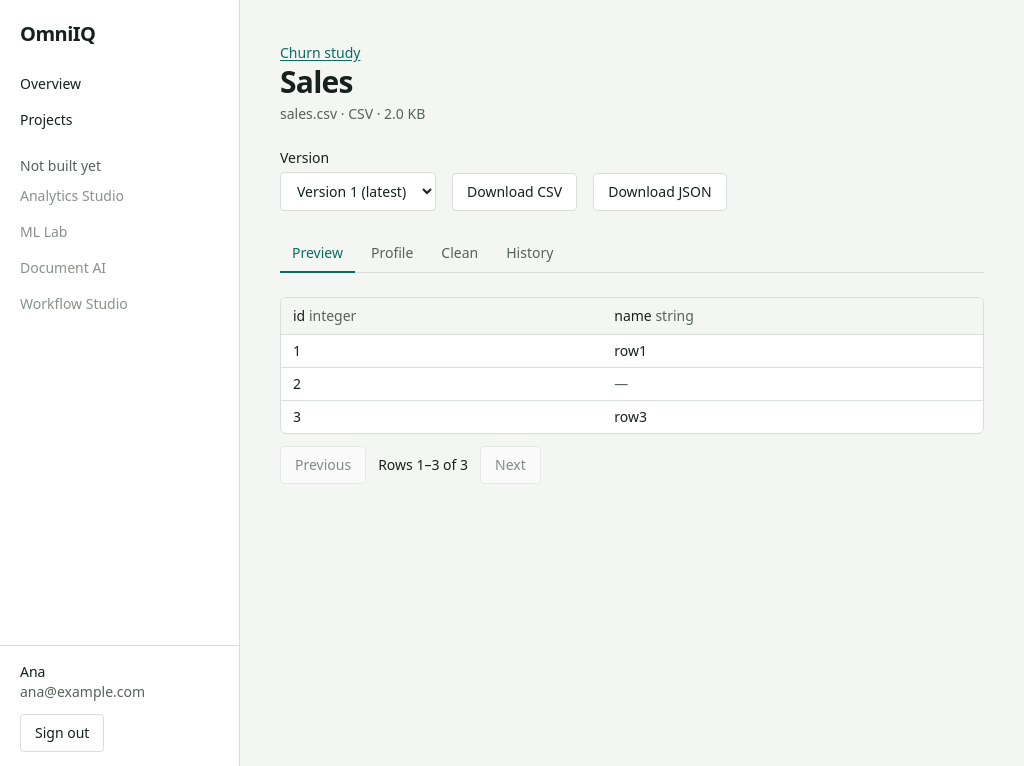
Export, roles and delete › members can clean but not delete
The image size is (1024, 766).
Click the tab "Clean". click: (460, 254)
box: [429,235,490,273]
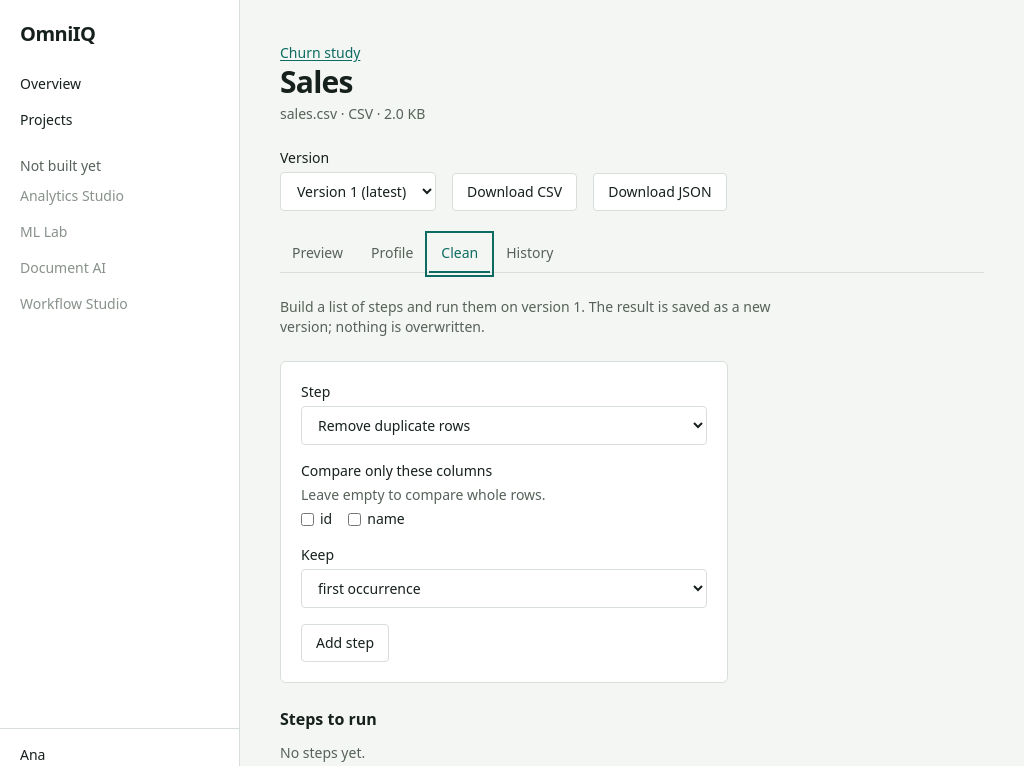
Check: the button "Add step" is shown, box [301,624,389,662]
